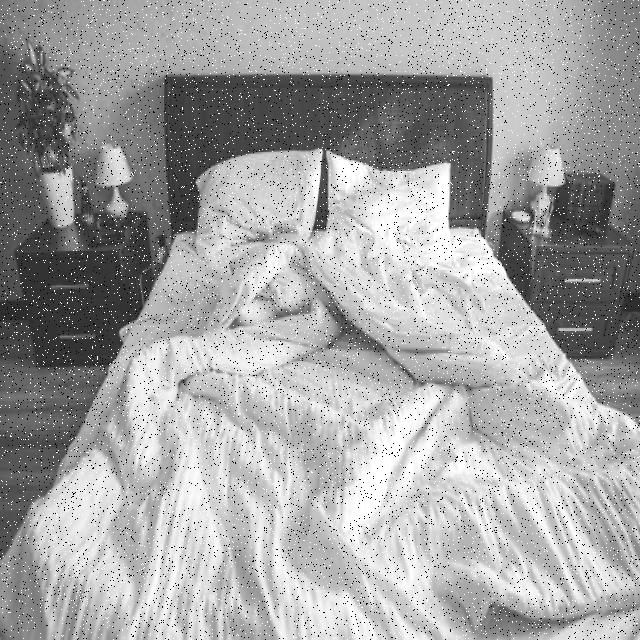bed: (107, 145, 612, 636)
